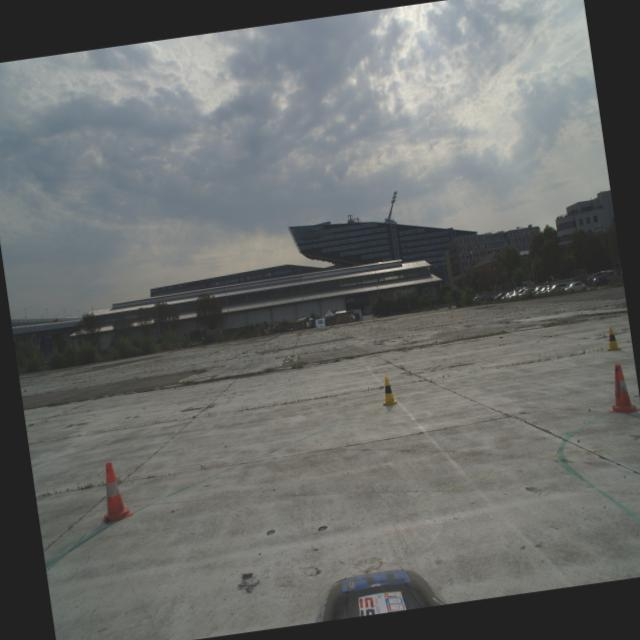orange_cone: (94, 460, 134, 524), (602, 362, 640, 416)
yellow_cone: (378, 376, 400, 406), (602, 326, 624, 352)
